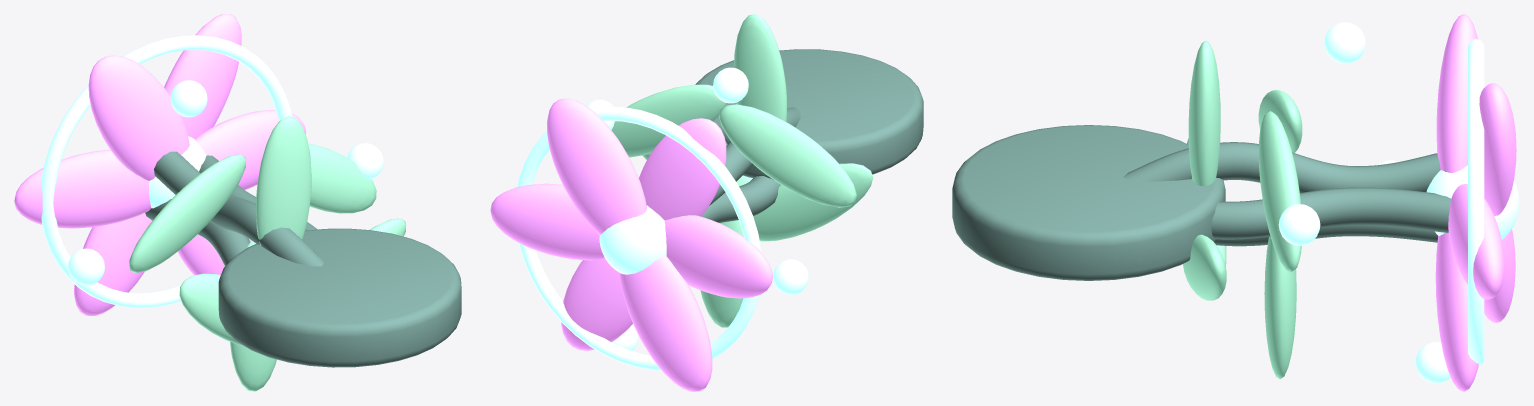
File: alien-flora.glb
3 renders of one model, left to right at view 1: azimuth 30°, elevation 25°; view 2: azimuth 150°, elevation 25°; view 3: azimuth 270°, elevation 25°, orthographic. The views are drawn at different scales.
Visible parts, largest first — view 1: AlienFlora_GroundCrown, AlienFlora_BloomPetal_3, AlienFlora_BioHalo, AlienFlora_BloomPetal_4, AlienFlora_Leaf_2_2, AlienFlora_Leaf_2_1, AlienFlora_BloomPetal_2, AlienFlora_SculptedStem_2, AlienFlora_BloomPetal_5, AlienFlora_Leaf_1_2, AlienFlora_BloomPetal_1, AlienFlora_Leaf_3_1 (+9 smaller); view 2: AlienFlora_GroundCrown, AlienFlora_BloomPetal_2, AlienFlora_BioHalo, AlienFlora_BloomPetal_5, AlienFlora_Leaf_2_2, AlienFlora_BloomPetal_4, AlienFlora_BloomPetal_1, AlienFlora_BloomPetal_3, AlienFlora_BloomPetal_6, AlienFlora_Leaf_2_1, AlienFlora_Leaf_1_2, AlienFlora_Leaf_3_1 (+7 smaller); view 3: AlienFlora_GroundCrown, AlienFlora_SculptedStem_1, AlienFlora_SculptedStem_2, AlienFlora_BioHalo, AlienFlora_BloomPetal_3, AlienFlora_Leaf_1_2, AlienFlora_BloomPetal_6, AlienFlora_Leaf_2_1, AlienFlora_BloomPetal_2, AlienFlora_BloomPetal_1, AlienFlora_Leaf_3_2, AlienFlora_Leaf_1_1 (+7 smaller).
Boxes of the visible parts, bbox=[...] form: AlienFlora_GroundCrown: bbox=[218, 228, 461, 367]; AlienFlora_BloomPetal_3: bbox=[88, 55, 189, 180]; AlienFlora_BioHalo: bbox=[41, 35, 292, 307]; AlienFlora_BloomPetal_4: bbox=[14, 149, 151, 228]; AlienFlora_Leaf_2_2: bbox=[129, 154, 245, 272]; AlienFlora_Leaf_2_1: bbox=[256, 116, 311, 246]; AlienFlora_BloomPetal_2: bbox=[164, 14, 241, 138]; AlienFlora_SculptedStem_2: bbox=[154, 151, 323, 266]; AlienFlora_BloomPetal_5: bbox=[74, 213, 152, 315]; AlienFlora_Leaf_1_2: bbox=[308, 143, 376, 213]; AlienFlora_BloomPetal_1: bbox=[194, 110, 305, 189]; AlienFlora_Leaf_3_1: bbox=[179, 273, 243, 345]; AlienFlora_GroundCrown: bbox=[695, 49, 923, 179]; AlienFlora_BloomPetal_2: bbox=[547, 98, 646, 235]; AlienFlora_BioHalo: bbox=[517, 106, 761, 370]; AlienFlora_BloomPetal_5: bbox=[619, 256, 712, 391]; AlienFlora_Leaf_2_2: bbox=[719, 104, 856, 207]; AlienFlora_BloomPetal_4: bbox=[664, 215, 772, 298]; AlienFlora_BloomPetal_1: bbox=[490, 183, 604, 260]; AlienFlora_BloomPetal_3: bbox=[639, 118, 726, 220]; AlienFlora_BloomPetal_6: bbox=[561, 258, 632, 350]; AlienFlora_Leaf_2_1: bbox=[734, 14, 786, 121]; AlienFlora_Leaf_1_2: bbox=[611, 84, 726, 157]; AlienFlora_Leaf_3_1: bbox=[753, 163, 873, 241]; AlienFlora_GroundCrown: bbox=[952, 125, 1225, 280]; AlienFlora_SculptedStem_1: bbox=[1211, 187, 1451, 239]; AlienFlora_SculptedStem_2: bbox=[1123, 142, 1440, 192]; AlienFlora_BioHalo: bbox=[1468, 39, 1484, 365]; AlienFlora_BloomPetal_3: bbox=[1436, 14, 1477, 172]; AlienFlora_Leaf_1_2: bbox=[1259, 111, 1301, 272]; AlienFlora_BloomPetal_6: bbox=[1435, 233, 1478, 391]; AlienFlora_Leaf_2_1: bbox=[1188, 41, 1220, 186]; AlienFlora_BloomPetal_2: bbox=[1479, 83, 1516, 215]; AlienFlora_BloomPetal_1: bbox=[1448, 184, 1504, 299]; AlienFlora_Leaf_3_2: bbox=[1264, 236, 1296, 379]; AlienFlora_Leaf_1_1: bbox=[1183, 234, 1226, 300].
Size of the model in its own units: 1.98 by 1.96 by 2.99.
